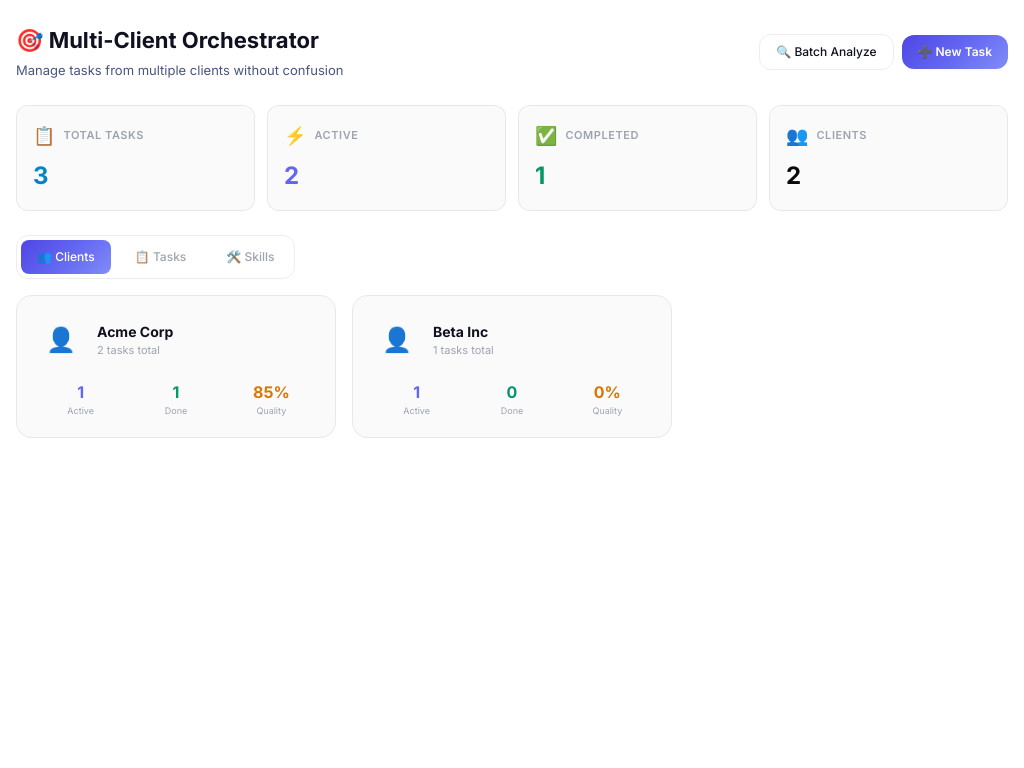
Scenario: MultiClientOrchestrator › switches to tasks view on click
The width and height of the screenshot is (1024, 768).
Click the button "📋 Tasks" at (160, 256), box [119,240,202,274]
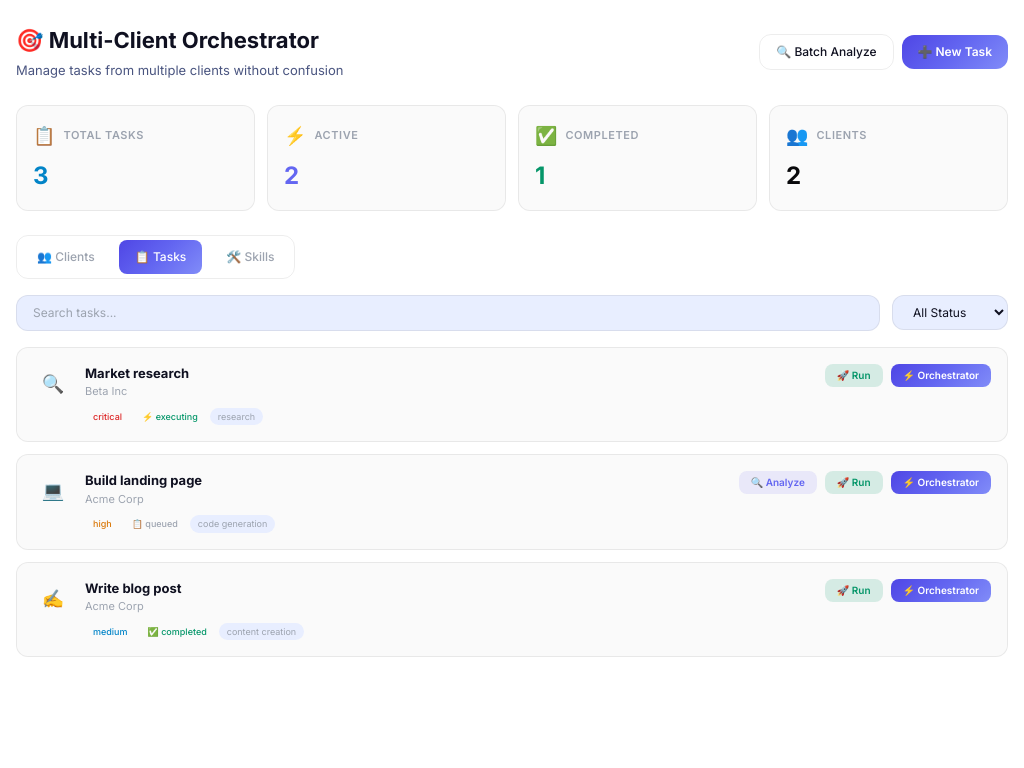
Result: the heading "Build landing page" is shown at [85,472,202,488]
Result: the heading "Write blog post" is shown at [85,580,182,596]
Result: the heading "Market research" is shown at [85,364,189,380]
